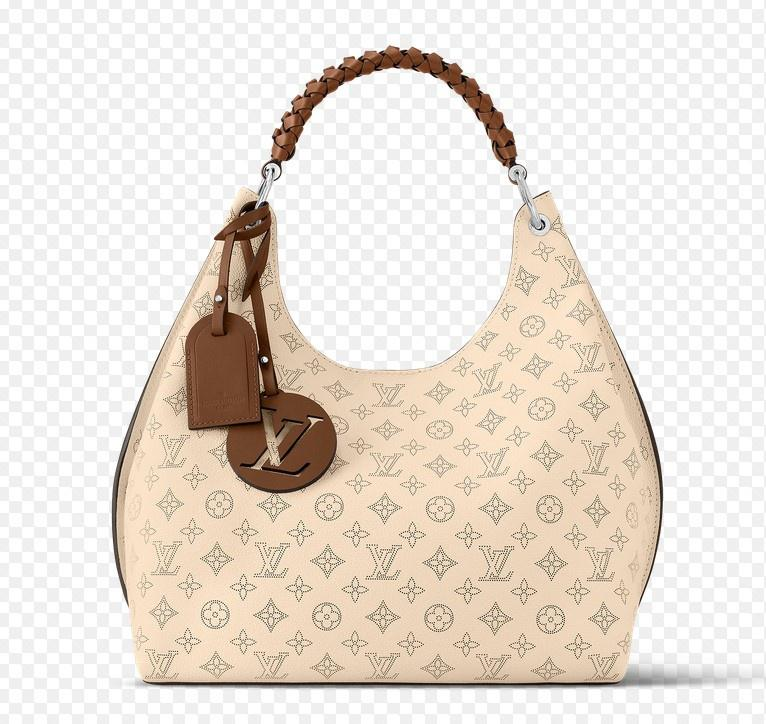LOUIS-VUITTON: (126, 223, 637, 687)
